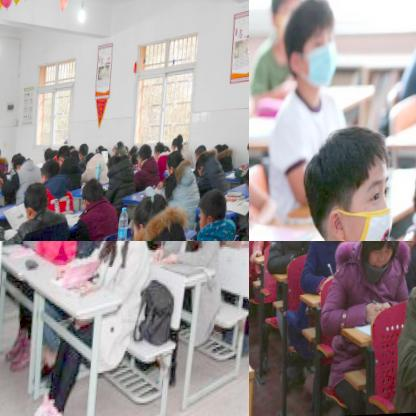head: (301, 126, 403, 241), (282, 1, 342, 95), (361, 241, 408, 281), (134, 198, 173, 240), (267, 0, 307, 35), (200, 195, 233, 232), (25, 181, 55, 220), (83, 178, 110, 209), (42, 162, 66, 185), (199, 153, 220, 179), (58, 144, 77, 167), (169, 153, 188, 176), (139, 143, 156, 166), (16, 154, 33, 173), (110, 154, 127, 171), (158, 140, 171, 162), (216, 142, 231, 160), (45, 145, 59, 163), (173, 137, 188, 153), (197, 145, 211, 162), (80, 142, 91, 160), (113, 141, 127, 155), (89, 152, 101, 166), (133, 145, 144, 159), (99, 144, 110, 156), (0, 144, 6, 160)
